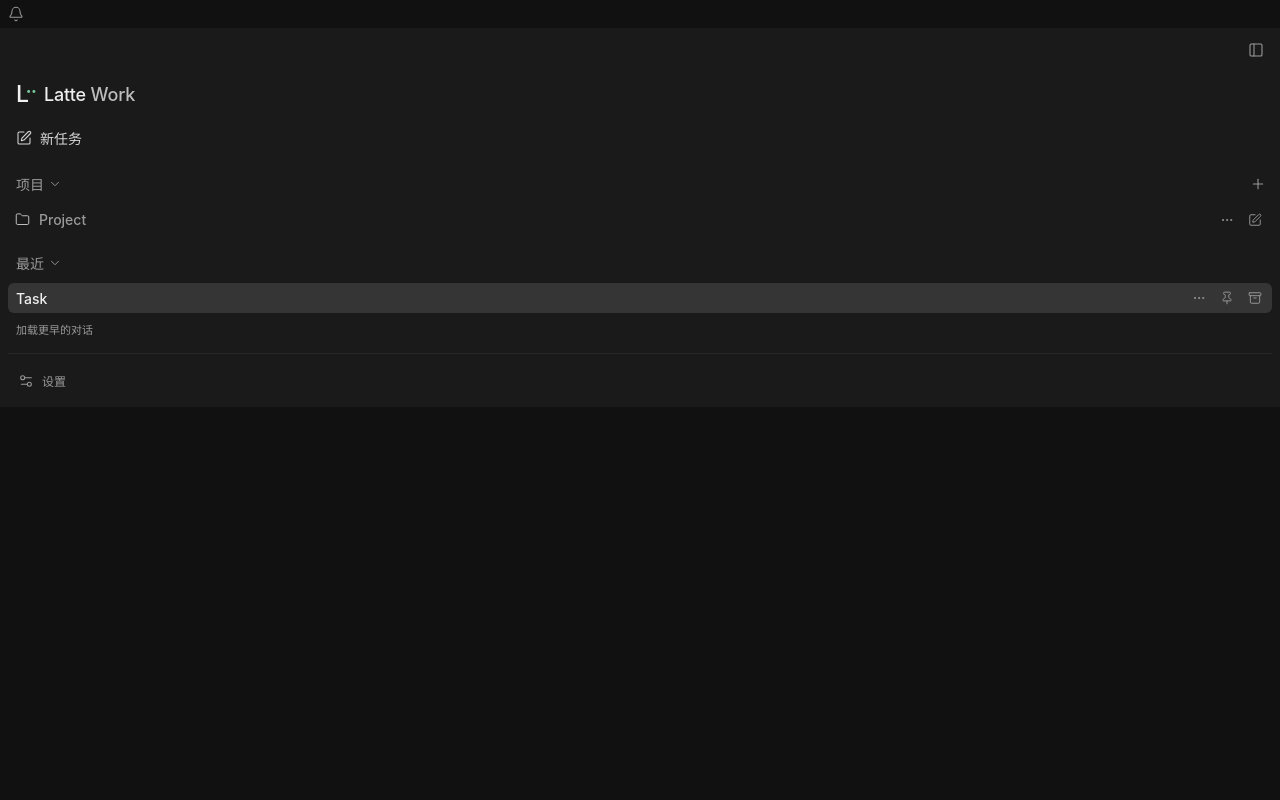
Test: keeps loaded recent history visible through a failed refresh and retry
Expected: the button "Task" is shown, [8, 283, 1272, 313]
Click the button "加载更早的对话" at (54,330), box [8, 313, 1272, 345]
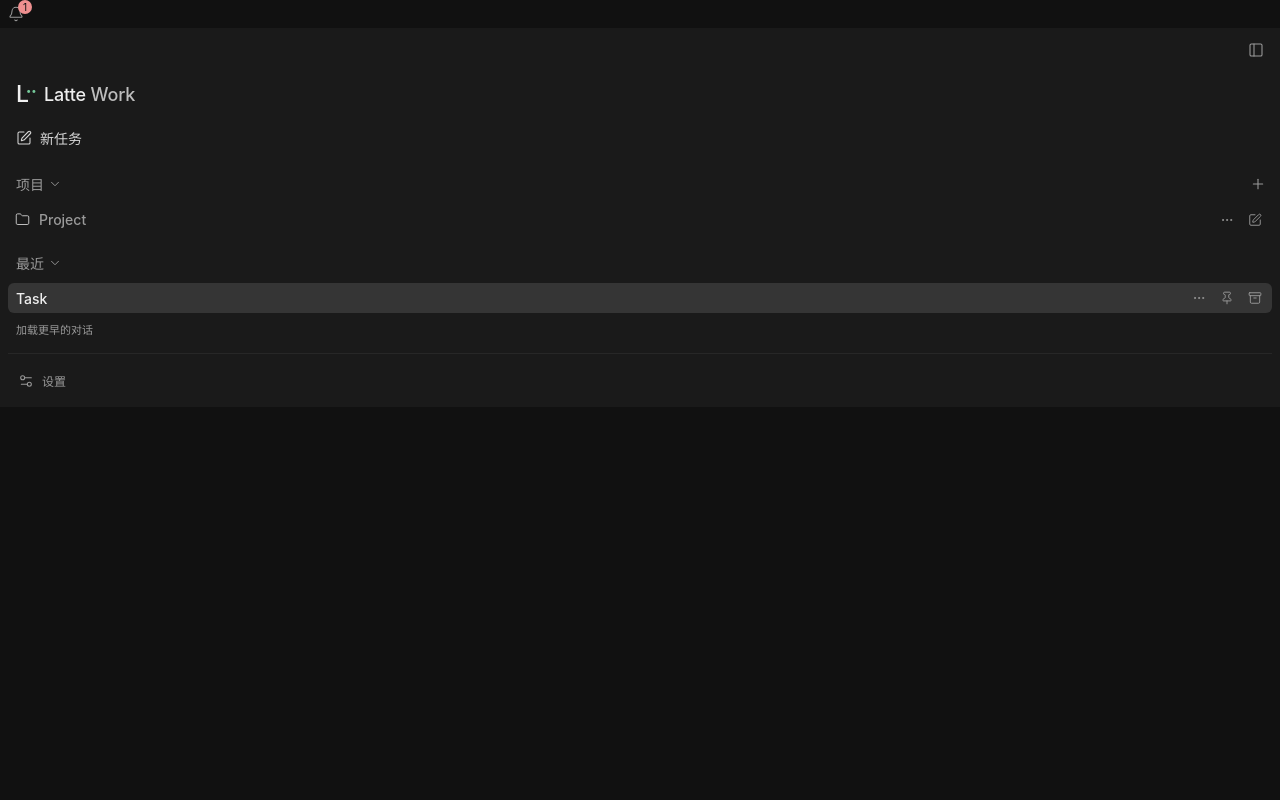
Now the button named "状态提示（1）" is shown
Click the button named "状态提示（1）" at (16,14), box [0, 0, 32, 28]
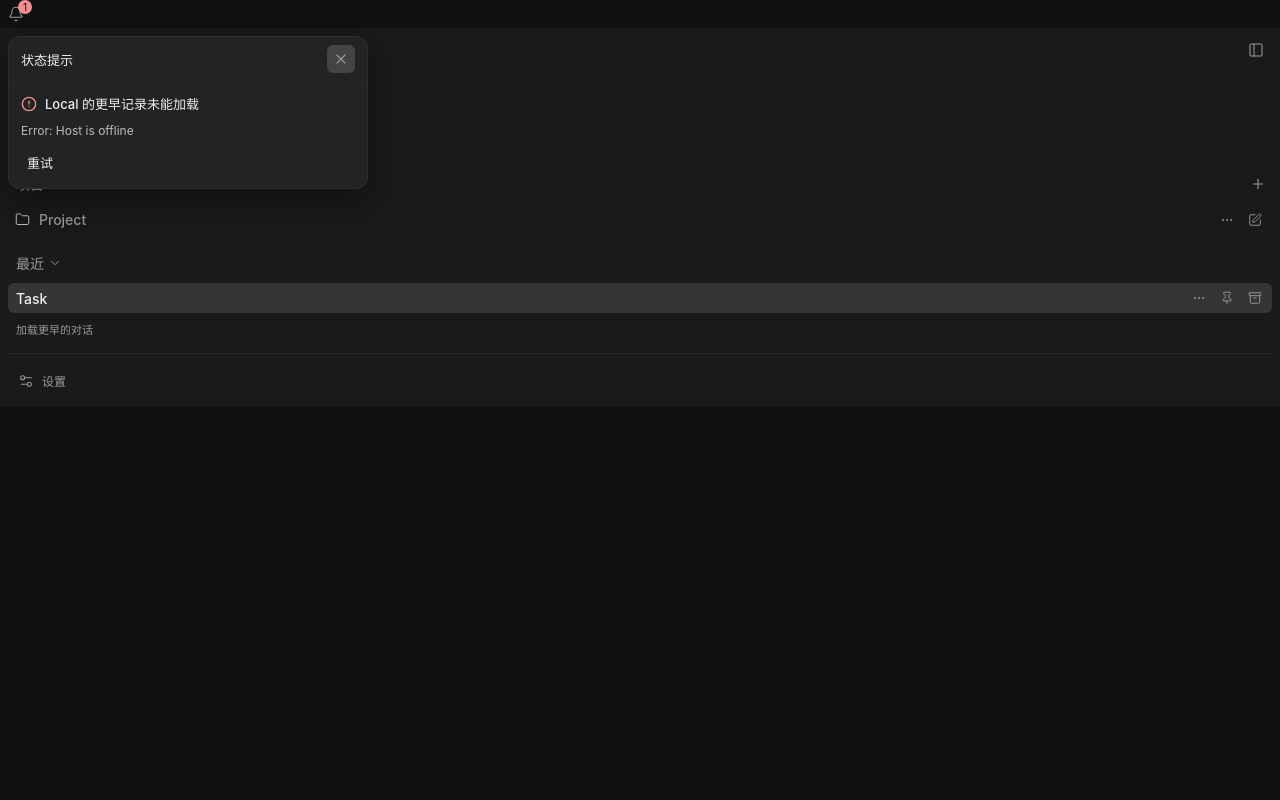
Expected: the button "Task" is shown, [8, 283, 1272, 313]
Now the text "Local 的更早记录未能加载" is shown, box [45, 94, 199, 113]
Click the button "重试" at (40,162), box [21, 148, 59, 176]
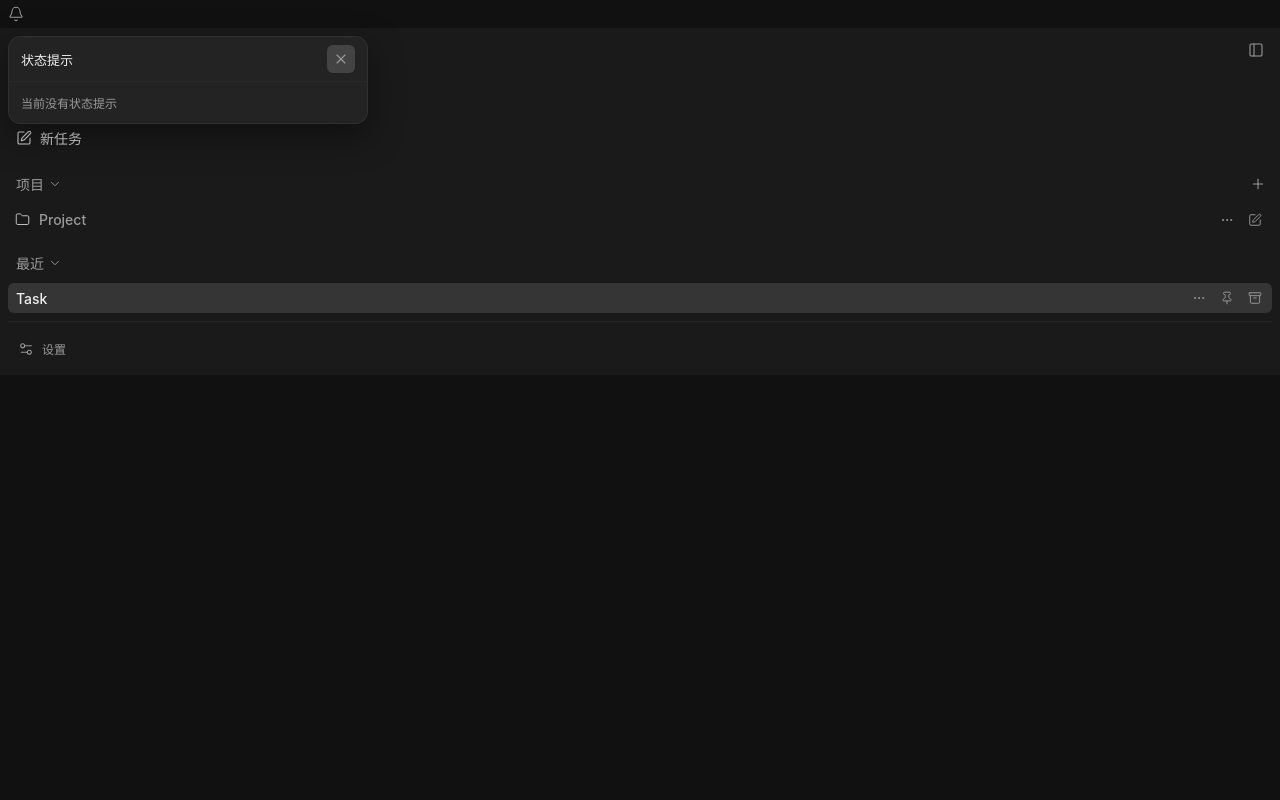
Now the text "Host is offline" is gone
